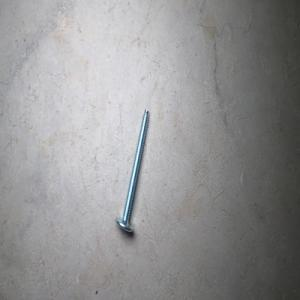Bolt: (114, 108, 149, 233)
